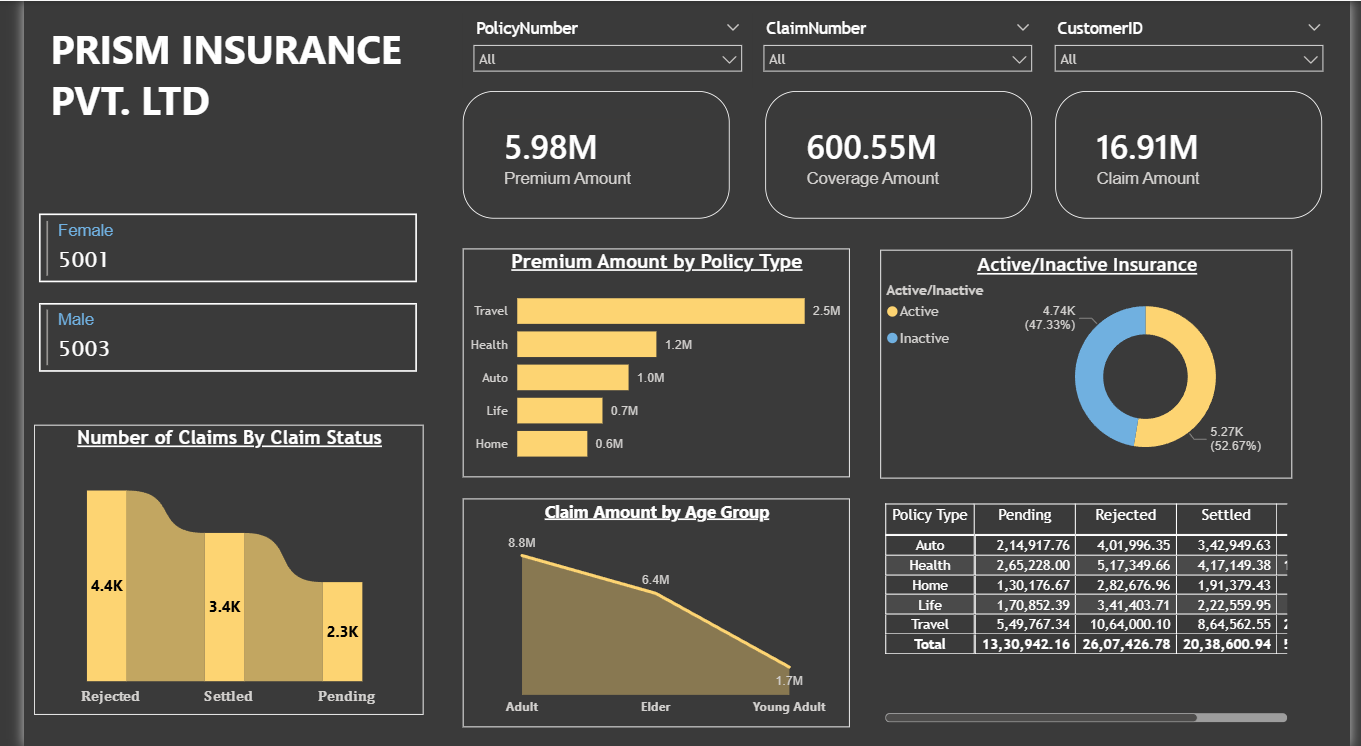

Layout of this report page (visuals, bound fields, positions):
{"tool":"powerbi","page":{"name":"Page 1","canvas":[1280,720],"ordinal":0},"visuals":[{"type":"slicer","fields":{"Values":["InsuranceData.PolicyNumber"]},"box":[424,12.3,279.9,74.1],"z":0},{"type":"slicer","fields":{"Values":["InsuranceData.CustomerID"]},"box":[983.9,12.3,279.9,74.1],"z":1000},{"type":"slicer","fields":{"Values":["InsuranceData.ClaimNumber"]},"box":[703.9,12.3,279.9,74.1],"z":2000},{"type":"textbox","box":[20.6,15.1,363.6,118],"z":3000},{"type":"cardVisual","fields":{"Data":["Sum(InsuranceData.PremiumAmount)"]},"box":[424,86.4,258,123.5],"z":4000},{"type":"cardVisual","fields":{"Data":["Sum(InsuranceData.CoverageAmount)"]},"box":[714.9,86.4,258,123.5],"z":5000},{"type":"cardVisual","fields":{"Data":["Sum(InsuranceData.ClaimAmount)"]},"box":[994.9,86.4,258,123.5],"z":6000},{"type":"multiRowCard","fields":{"Values":["InsuranceData.Gender","CountNonNull(InsuranceData.Gender)"]},"box":[9.6,200.3,374.6,194.9],"z":7000},{"type":"ribbonChart","title":"Number of Claims By Claim Status","fields":{"Category":["InsuranceData.ClaimStatus"],"Y":["CountNonNull(InsuranceData.ClaimStatus)"]},"box":[9.6,408.9,376,279.9],"z":8000},{"type":"barChart","title":"Premium Amount by Policy Type","fields":{"Y":["Sum(InsuranceData.PremiumAmount)"],"Category":["InsuranceData.PolicyType"]},"box":[424,238.8,373.2,220.9],"z":9000},{"type":"lineChart","title":"Claim Amount by Age Group","fields":{"Category":["InsuranceData.Age Group"],"Y":["Sum(InsuranceData.ClaimAmount)"]},"box":[424,480.3,373.2,220.9],"z":9001},{"type":"donutChart","title":"Active/Inactive Insurance","fields":{"Category":["InsuranceData.Active/Inactive"],"Y":["CountNonNull(InsuranceData.Active/Inactive)"]},"box":[826.1,240.1,397.9,220.9],"z":9002},{"type":"pivotTable","fields":{"Rows":["InsuranceData.PolicyType"],"Columns":["InsuranceData.ClaimStatus"],"Values":["Sum(InsuranceData.PremiumAmount)"]},"box":[826.1,480.3,397.9,220.9],"z":9003}]}

Visuals, with their boxes in screenshot pixels (x1, y1, x2, y2), scaled from the page's 1280x720 canvas onto the 1361x746 screenshot:
slicer - InsuranceData.PolicyNumber: [451,13,748,90]
slicer - InsuranceData.CustomerID: [1046,13,1344,90]
slicer - InsuranceData.ClaimNumber: [748,13,1046,90]
textbox: [22,16,409,138]
cardVisual - Sum(InsuranceData.PremiumAmount): [451,90,725,217]
cardVisual - Sum(InsuranceData.CoverageAmount): [760,90,1034,217]
cardVisual - Sum(InsuranceData.ClaimAmount): [1058,90,1332,217]
multiRowCard - InsuranceData.Gender x CountNonNull(InsuranceData.Gender): [10,208,409,409]
"Number of Claims By Claim Status" ribbonChart: [10,424,410,714]
"Premium Amount by Policy Type" barChart: [451,247,848,476]
"Claim Amount by Age Group" lineChart: [451,498,848,727]
"Active/Inactive Insurance" donutChart: [878,249,1301,478]
pivotTable - InsuranceData.PolicyType x InsuranceData.ClaimStatus: [878,498,1301,727]
